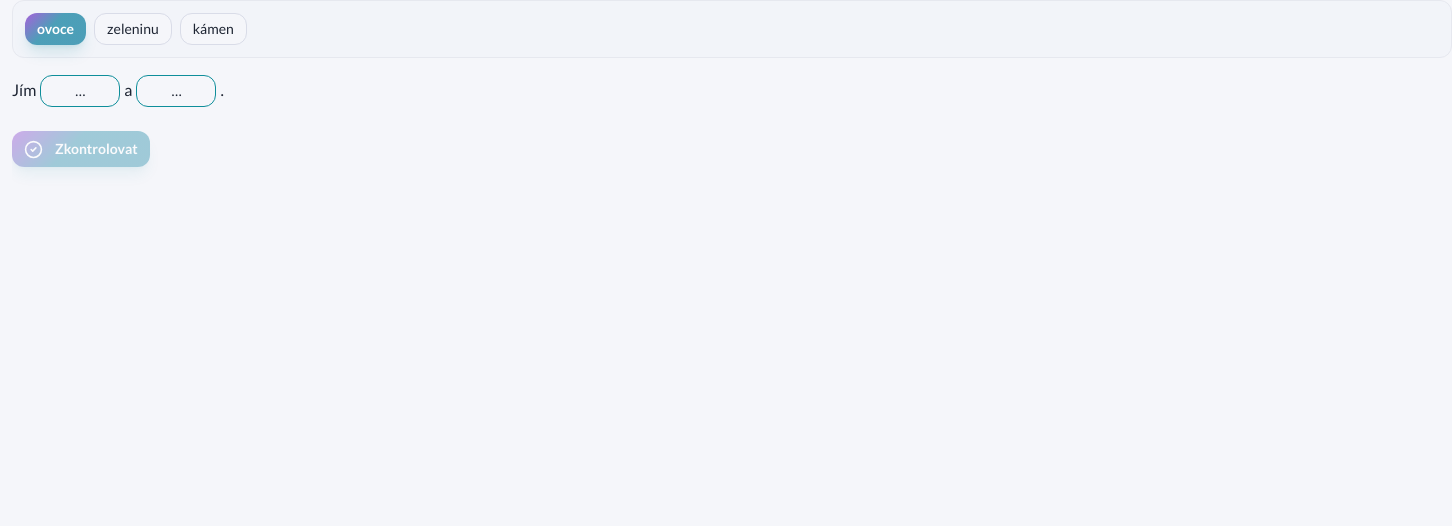
Test case: banka slov doplňování › starší text nabídne jednu variantu a falešná slova, uloží stejné answers
Earlier steps of the test are not shown.
Click the button named "Mezera 1".
click(80, 91)  # box [40,75,120,107]
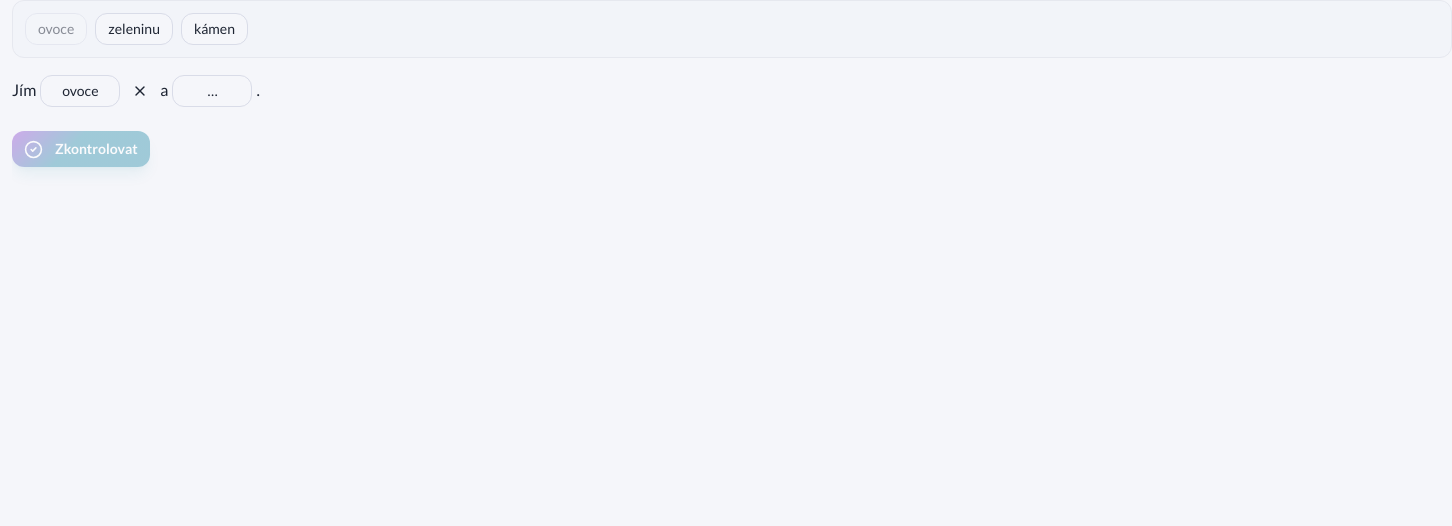
Expected: the 1st button "ovoce" is disabled, [25,13,87,45]
Click the button "kámen".
click(214, 29)  # box [181,13,248,45]
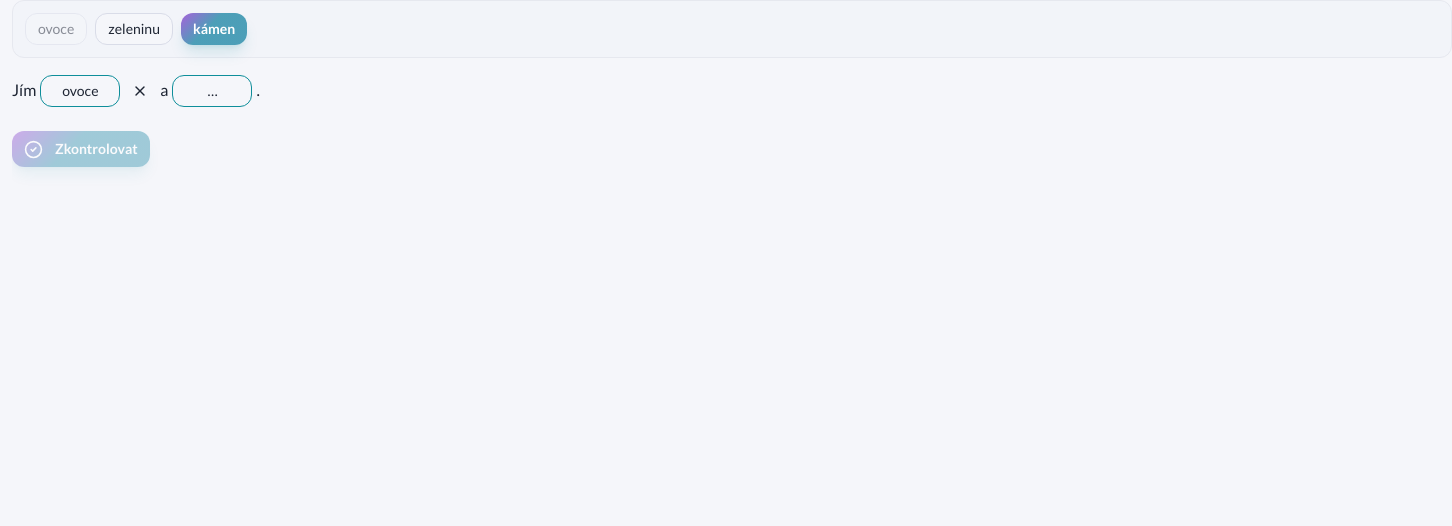
Click the button named "Mezera 2".
click(212, 91)  # box [172,75,252,107]
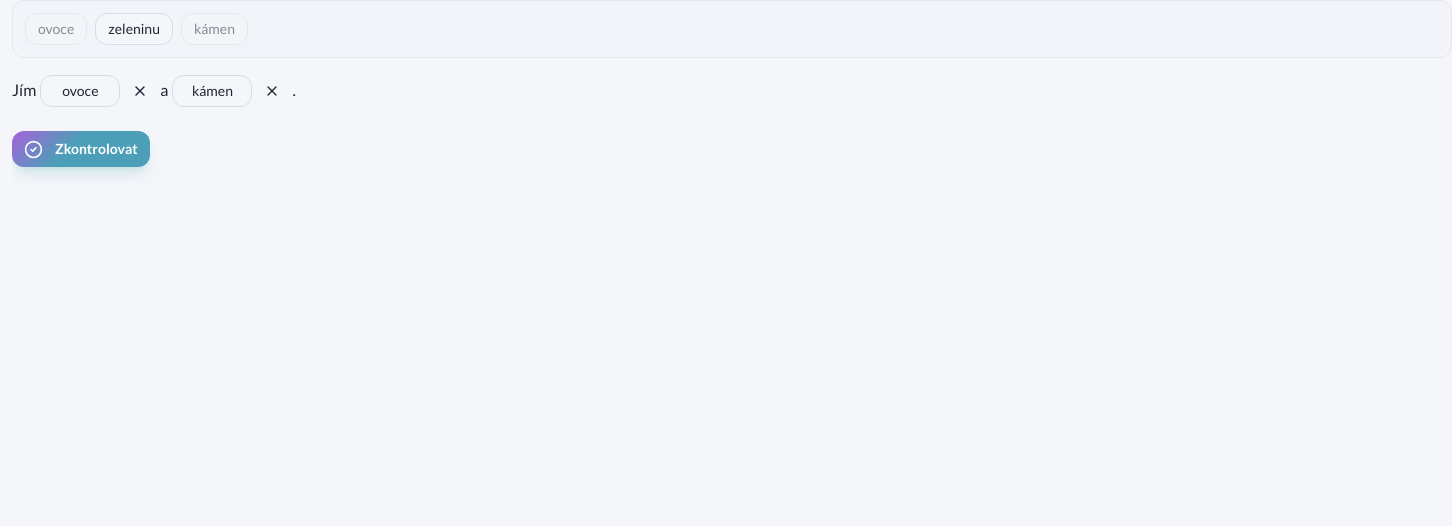
Click the button "Zkontrolovat".
click(81, 149)  # box [12,131,150,167]
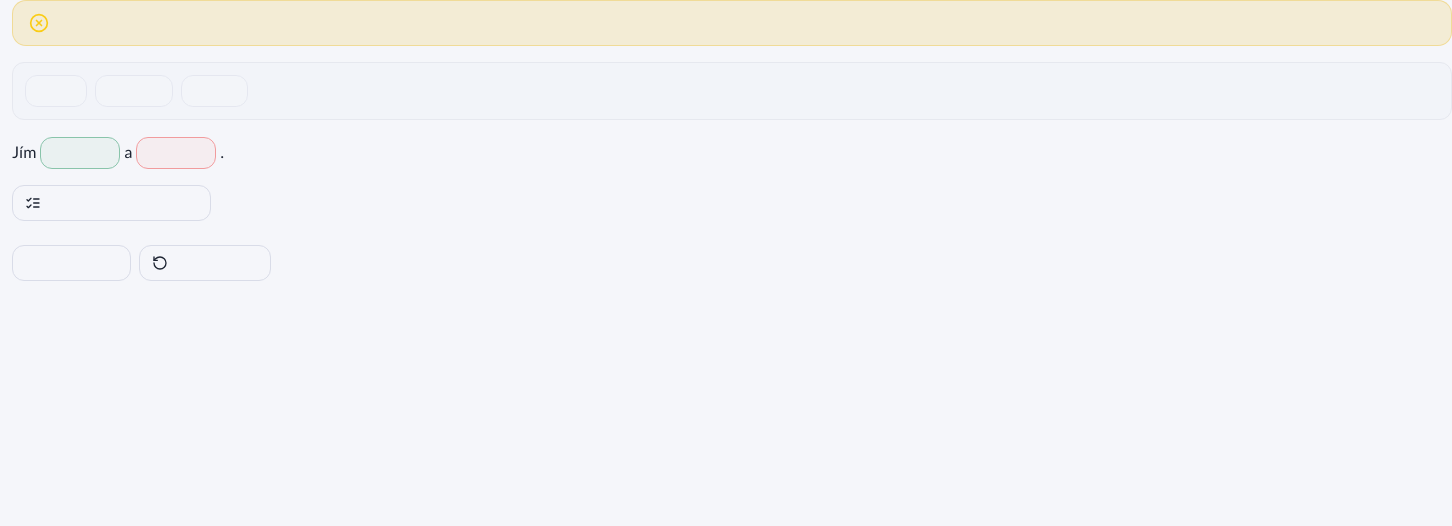
Click the button "Zkontrolovat odpovědi".
click(111, 203)  # box [12,185,211,221]
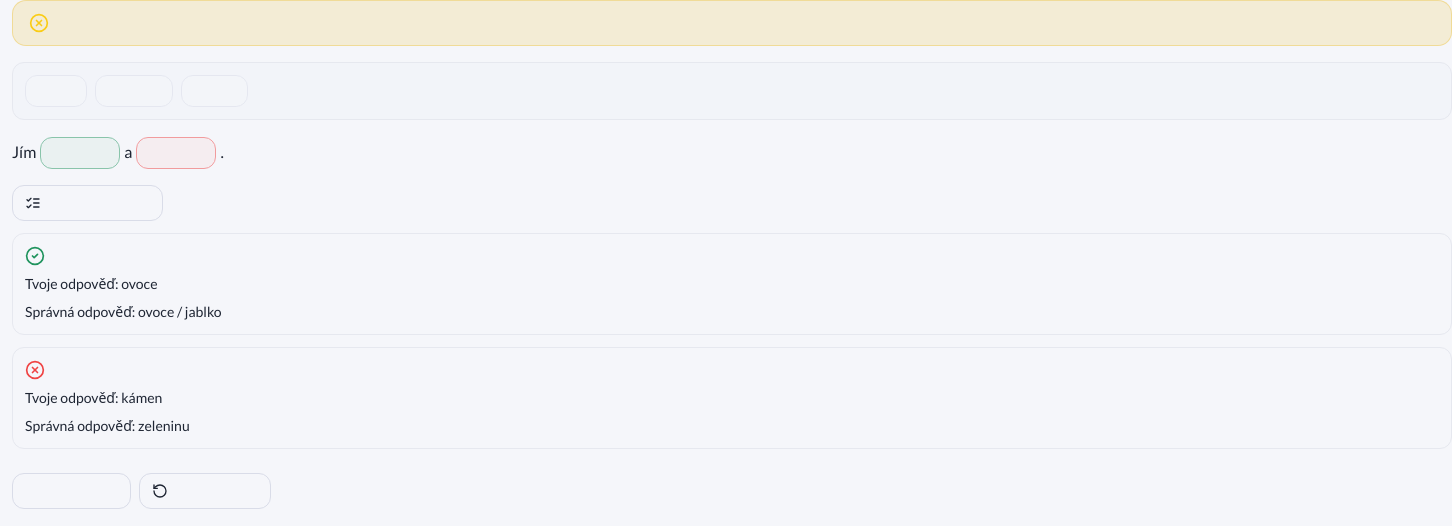
Expected: the list named "Kontrola odpovědí" is shown, [12,233,1451,449]
Click the button "Zkusit znovu".
click(205, 491)  # box [139,473,271,509]
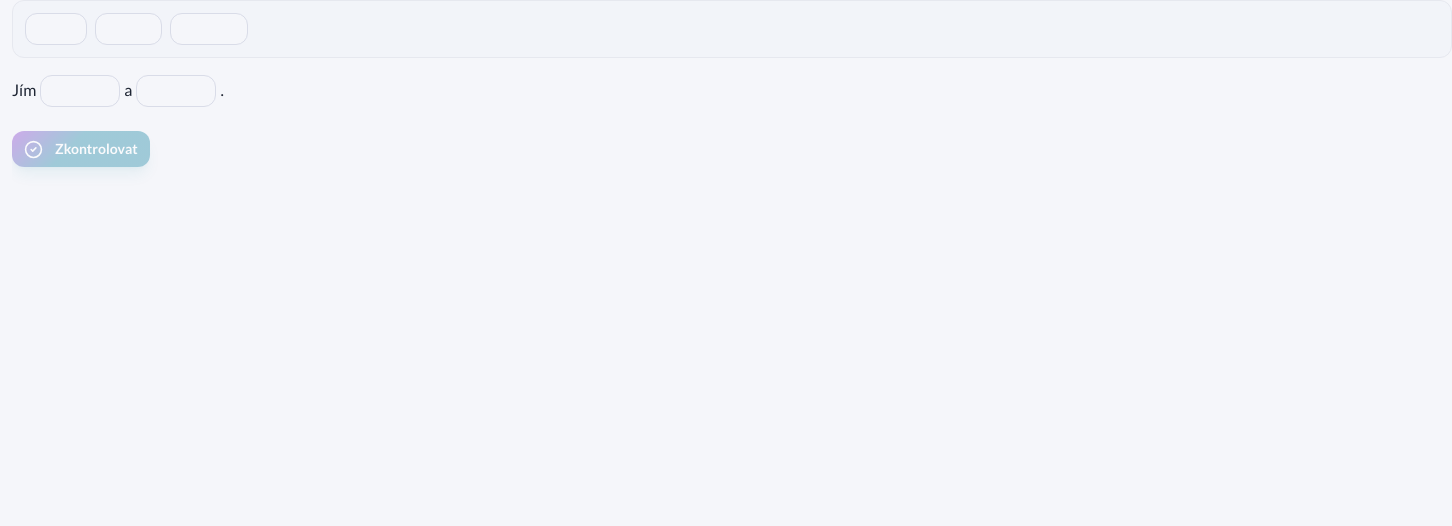
Expected: the button named "Mezera 1" reads "…", [40,75,120,107]
Expected: the button "ovoce" is enabled, [25,13,87,45]
